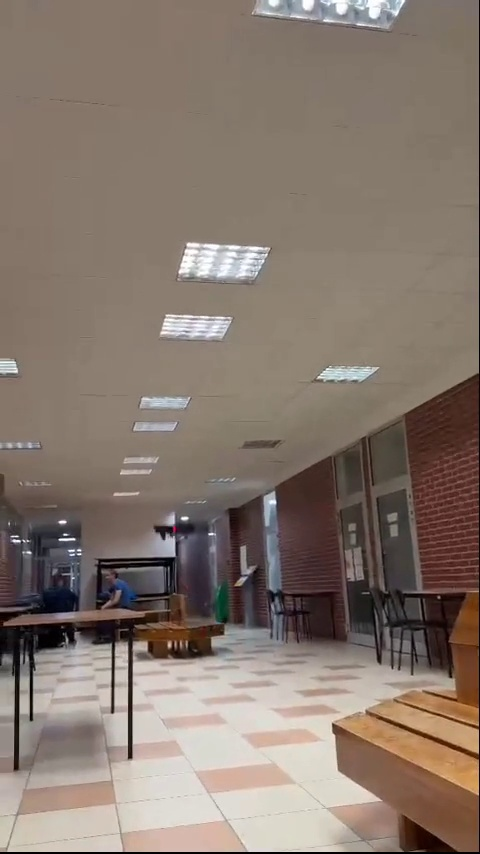drone: (156, 526, 192, 540)
no vest: (39, 573, 84, 616), (101, 571, 133, 610)
